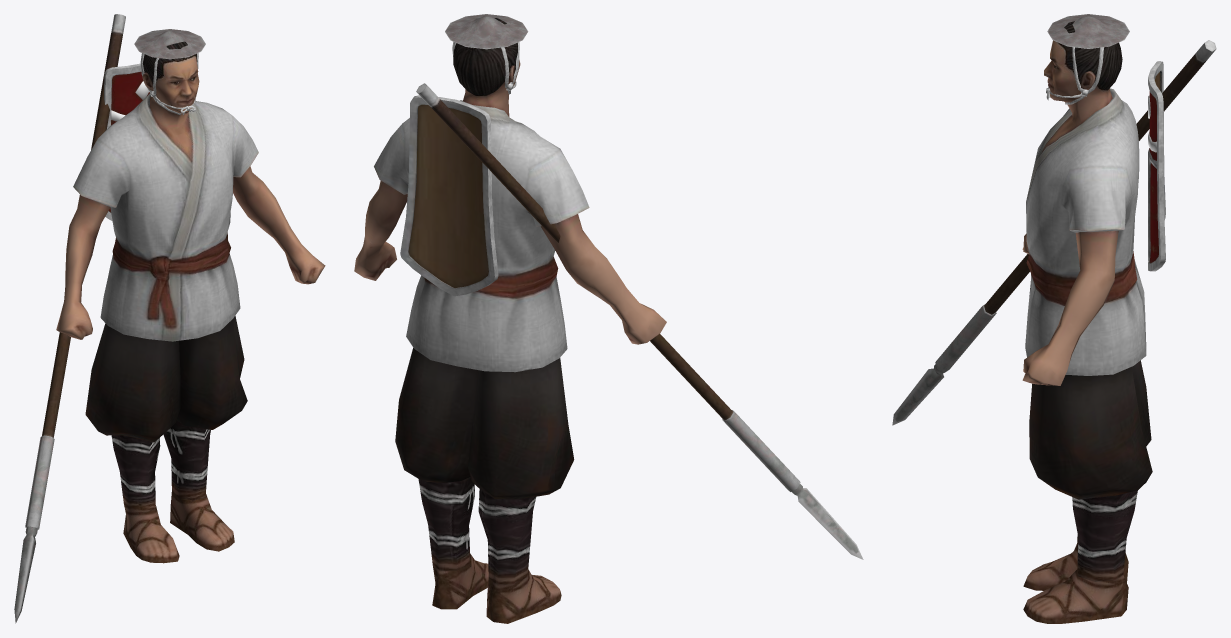
File: 141-yarispearman.glb
3 views of the same model, side by side, from view 1: azimuth 30°, elevation 25°; view 2: azimuth 150°, elevation 25°; view 3: azimuth 270°, elevation 25° (orthographic). The views are drawn at different scales.
Bounding box in the file's own units: 1.62 × 2.1 × 1.06.
4 materials, 4 textured.
